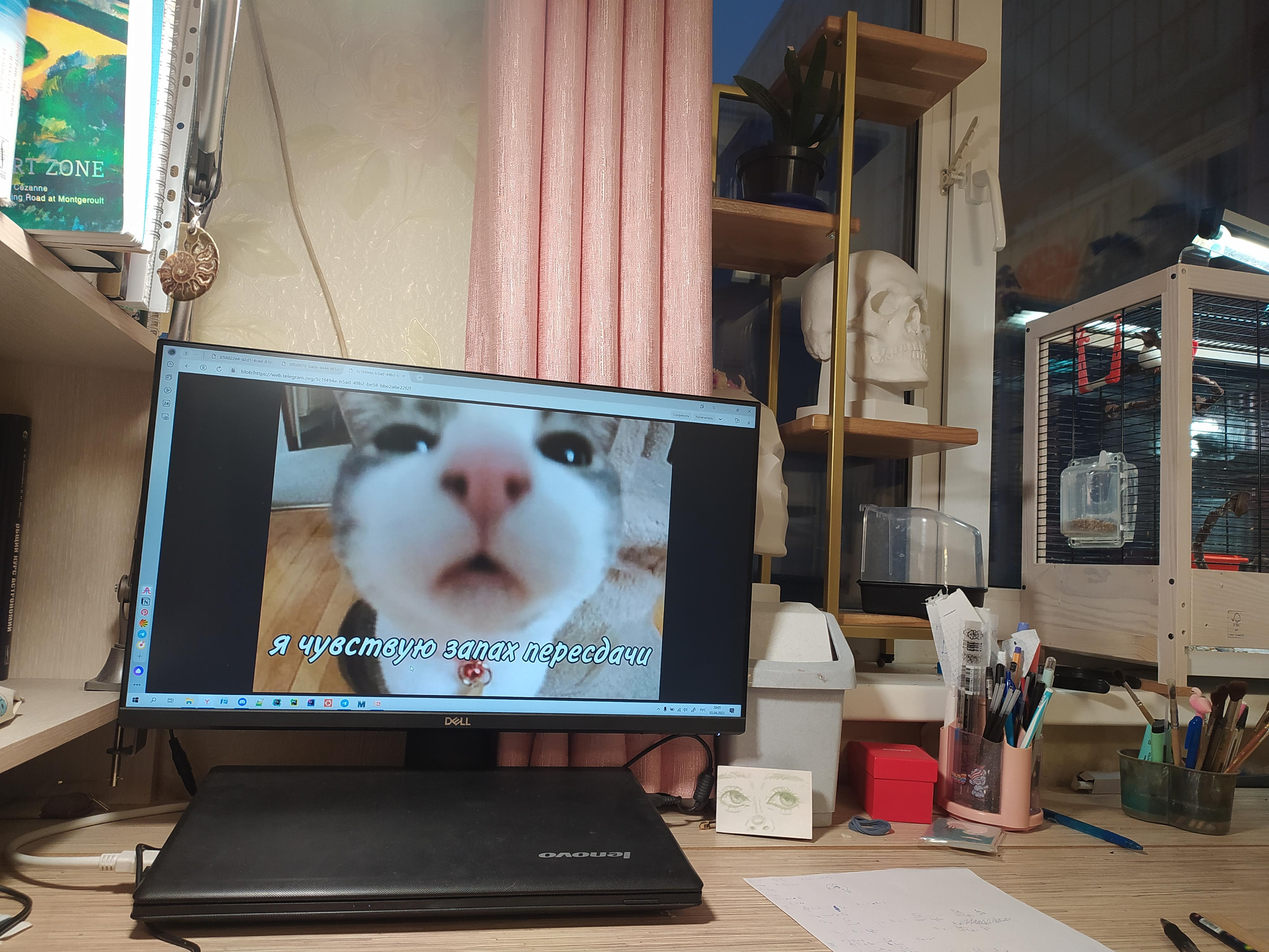monitor: (121, 333, 766, 743)
